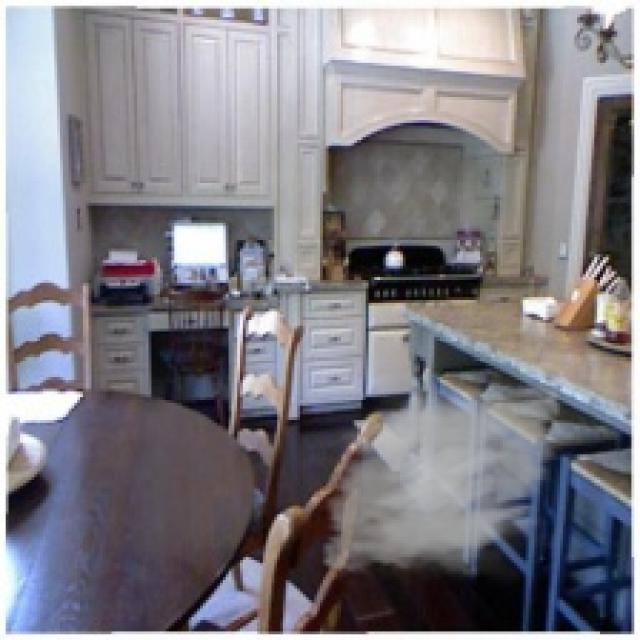Smoke: (312, 368, 572, 594)
